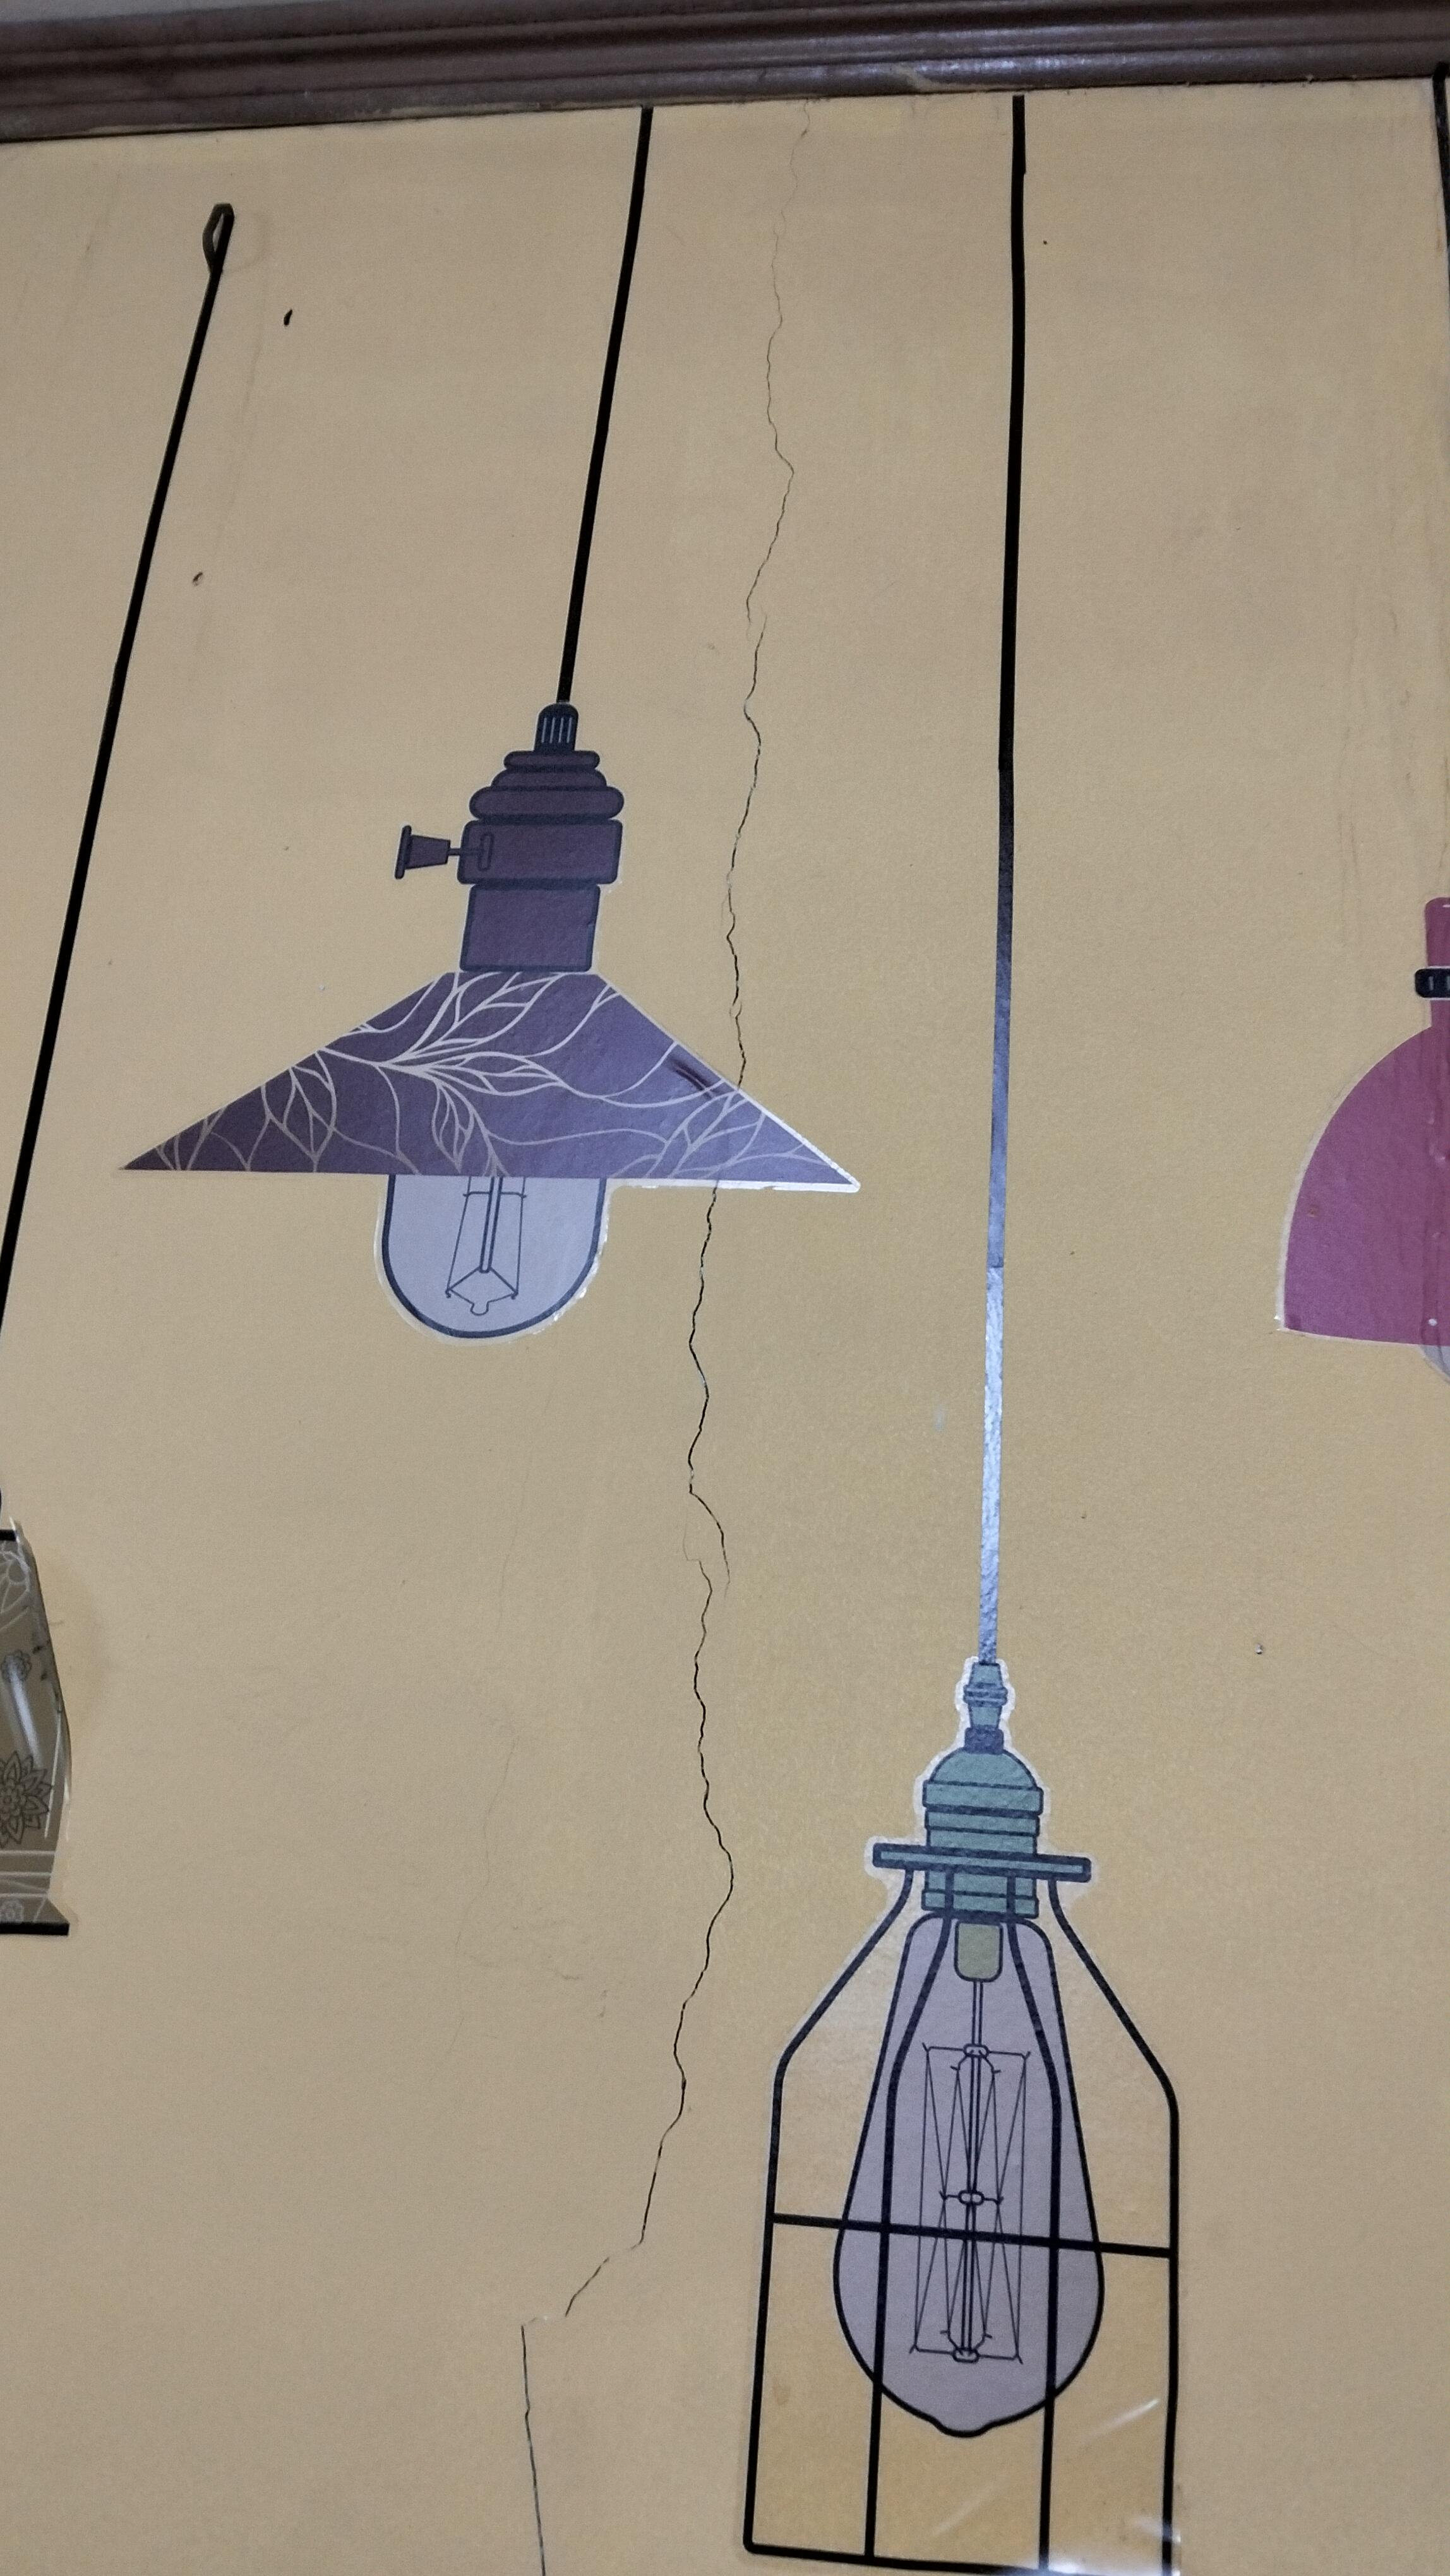Crack: (499, 1844, 737, 2576), (713, 271, 811, 1095), (673, 1187, 768, 1897), (768, 96, 848, 280)
